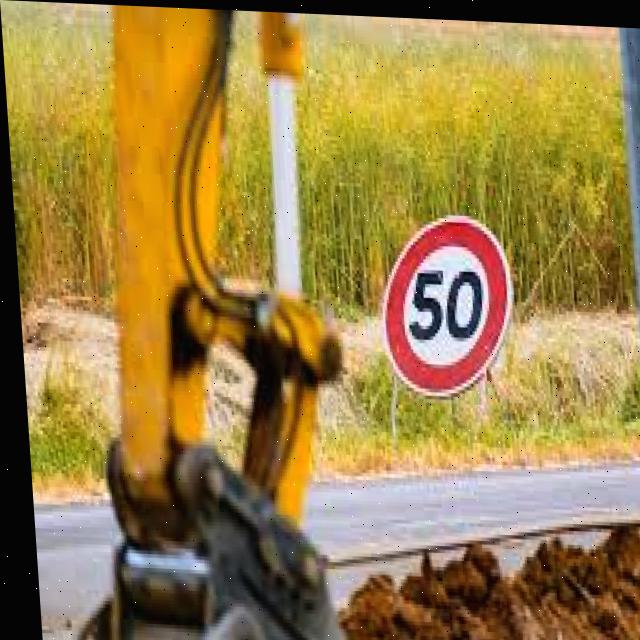Speed limit 50: (371, 202, 516, 400)
